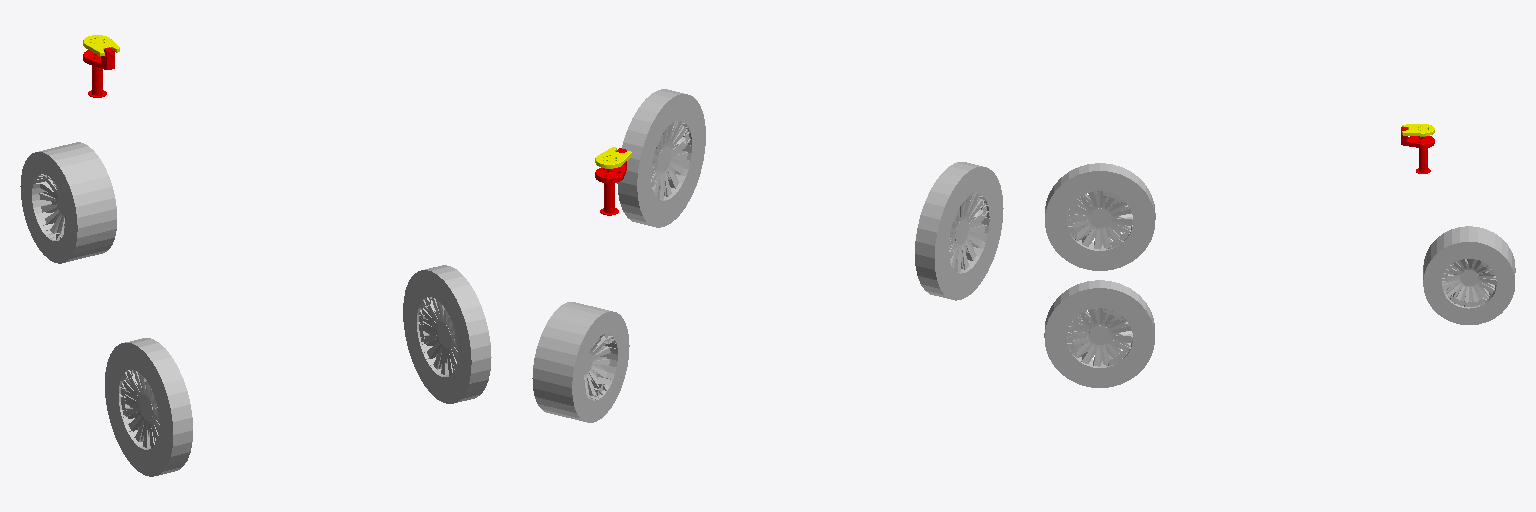
The robot description file, URDF, robot "ai_car1":
<?xml version="1.0"?>
<robot name="ai_car1">

  <!-- モデルのベースとなる空リンク -->
  <link name="base_link"/>

  <!-- chassis本体 -->
  <link name="chassis">
    <inertial>
      <mass value="40.0"/>
      <inertia
        ixx="1.73333" ixy="0.0" ixz="0.0"
        iyy="4.56667" iyz="0.0" izz="4.56667"/>
    </inertial>

    <visual name="chassis_visual">
      <origin xyz="0 0 0" rpy="0 0 0"/>
      <geometry>
        <mesh filename="package://simulator/models/ai_car1/meshes/AIF_body.dae"/>
      </geometry>
    </visual>

    <collision name="chassis_collision">
      <origin xyz="0 0 0" rpy="0 0 0"/>
      <geometry>
        <mesh filename="package://simulator/models/ai_car1/meshes/AIF_body.dae"/>
      </geometry>
    </collision>
  </link>

  <!-- chassisをオフセットして配置 -->
  <joint name="chassis_offset_joint" type="fixed">
    <parent link="base_link"/>
    <child link="chassis"/>
    <origin xyz="0 0 0.15" rpy="0 0 1.57"/>
  </joint>

  <!-- ========== Motor Assembly ========== -->
  <!-- モータ本体 -->
  <link name="motor">
    <inertial>
      <mass value="7.0"/>
      <inertia
        ixx="0.04778"
        ixy="0.0"
        ixz="0.0"
        iyy="0.04778"
        iyz="0.0"
        izz="0.07875"/>
    </inertial>

    <visual name="motor_visual">
      <origin xyz="0 0 0" rpy="0 0 0"/>
      <geometry>
        <mesh filename="package://simulator/models/ai_car1/meshes/motor.dae" scale="0.001 0.001 0.001"/>
      </geometry>
    </visual>

    <collision name="motor_collision">
      <origin xyz="0 0 0" rpy="0 0 0"/>
      <geometry>
        <mesh filename="package://simulator/models/ai_car1/meshes/motor.dae" scale="0.001 0.001 0.001"/>
      </geometry>
      <surface>
        <contact>
          <ode>
            <kp>1e5</kp>    <!-- ばね係数 -->
            <kd>1.0</kd>    <!-- 減衰係数 -->
          </ode>
        </contact>
        <friction>
          <ode>
            <mu>1.0</mu>    <!-- 静止摩擦 -->
            <mu2>1.0</mu2>  <!-- 動摩擦 -->
          </ode>
        </friction>
      </surface>
    </collision>
  </link>

  <!-- モータの回転部分 -->
  <link name="motor_spin">
    <inertial>
      <mass value="7.0"/>
      <inertia
        ixx="0.04778"
        ixy="0.0"
        ixz="0.0"
        iyy="0.04778"
        iyz="0.0"
        izz="0.07875"/>
    </inertial>

    <visual name="motor_spin_visual">
      <origin xyz="0 0 0" rpy="0 0 0"/>
      <geometry>
        <mesh filename="package://simulator/models/ai_car1/meshes/motor_spin.dae" scale="0.001 0.001 0.001"/>
      </geometry>
      <material name="yellow">
        <color rgba="1.0 1.0 0.0 1.0"/>
      </material>
    </visual>

    <collision name="motor_spin_collision">
      <origin xyz="0 0 0" rpy="0 0 0"/>
      <geometry>
        <mesh filename="package://simulator/models/ai_car1/meshes/motor_spin.dae" scale="0.001 0.001 0.001"/>
      </geometry>
      <surface>
        <contact>
          <ode>
            <kp>1e5</kp>    <!-- ばね係数 -->
            <kd>1.0</kd>    <!-- 減衰係数 -->
          </ode>
        </contact>
        <friction>
          <ode>
            <mu>1.0</mu>    <!-- 静止摩擦 -->
            <mu2>1.0</mu2>  <!-- 動摩擦 -->
          </ode>
        </friction>
      </surface>
    </collision>
  </link>

  <!-- chassis に固定されるモータ -->
  <joint name="motor_joint" type="fixed">
    <parent link="chassis"/>
    <child link="motor"/>
    <origin xyz="0.7 0 0.33" rpy="0 0 0"/>
  </joint>

  <!-- モータ回転軸 -->
  <joint name="motor_spin_joint" type="revolute">
    <parent link="motor"/>
    <child link="motor_spin"/>
    <origin xyz="0 0 0.022" rpy="0 0 0"/>
    <axis xyz="0 0 1"/>
    <limit lower="-6.283" upper="6.283" effort="9.4" velocity="100.0"/>
    <dynamics friction="0.9"/>
  </joint>


  <!-- ========== Left Wheel ========== -->
  <!-- ========================== -->
  <!--        Left Wheel          -->
  <!-- ========================== -->
  <link name="left_wheel">
    <inertial>
      <mass value="7.0"/>
      <inertia
        ixx="0.04778"
        ixy="0.0"
        ixz="0.0"
        iyy="0.04778"
        iyz="0.0"
        izz="0.07875"/>
    </inertial>

    <visual name="left_wheel_visual">
      <origin xyz="0 0 0" rpy="0 0 0"/>
      <geometry>
        <mesh filename="package://simulator/models/ai_car1/meshes/tire.dae" scale="0.05 0.12 0.12"/>
      </geometry>
    </visual>

    <collision name="left_wheel_collision">
      <origin xyz="0 0 0" rpy="0 0 0"/>
      <geometry>
        <mesh filename="package://simulator/models/ai_car1/meshes/tire.dae" scale="0.05 0.12 0.12"/>
      </geometry>
    </collision>
  </link>

  <!-- 左車輪ジョイント -->
  <joint name="left_wheel_joint" type="revolute">
    <parent link="chassis"/>
    <child link="left_wheel"/>
    <origin xyz="0 -0.3 0" rpy="1.57 0 1.57"/>
    <axis xyz="-1 0 0"/>
    <limit effort="9.4" lower="-1000.0" upper="1000.0" velocity="100.0"/>
    <dynamics friction="0.9"/>
  </joint>

  <!-- ========================== -->
  <!--        Right Wheel         -->
  <!-- ========================== -->
  <link name="right_wheel">
    <inertial>
      <mass value="7.0"/>
      <inertia
        ixx="0.04778"
        ixy="0.0"
        ixz="0.0"
        iyy="0.04778"
        iyz="0.0"
        izz="0.07875"/>
    </inertial>

    <visual name="right_wheel_visual">
      <origin xyz="0 0 0" rpy="0 0 0"/>
      <geometry>
        <mesh filename="package://simulator/models/ai_car1/meshes/tire.dae" scale="0.05 0.12 0.12"/>
      </geometry>
    </visual>

    <collision name="right_wheel_collision">
      <origin xyz="0 0 0" rpy="0 0 0"/>
      <geometry>
        <mesh filename="package://simulator/models/ai_car1/meshes/tire.dae" scale="0.05 0.12 0.12"/>
      </geometry>
    </collision>
  </link>

  <!-- 右車輪ジョイント -->
  <joint name="right_wheel_joint" type="revolute">
    <parent link="chassis"/>
    <child link="right_wheel"/>
    <origin xyz="0 0.3 0" rpy="1.57 0 1.57"/>
    <axis xyz="-1 0 0"/>
    <limit effort="9.4" lower="-1000.0" upper="1000.0" velocity="100.0"/>
    <dynamics friction="0.9"/>
  </joint>

  <!-- ========== Caster Assembly ========== -->
  <!-- caster_yaw -->
  <link name="caster_yaw">
    <inertial>
      <mass value="5.0"/>
      <inertia
        ixx="0.001" ixy="0.0" ixz="0.0"
        iyy="0.001" iyz="0.0" izz="0.001"/>
    </inertial>

    <visual>
      <origin xyz="0 0 0" rpy="0 0 0"/>
      <geometry>
        <mesh filename="package://simulator/models/ai_car1/meshes/castor_yaw.dae" scale="0.001 0.001 0.001"/>
      </geometry>
      <material name="red">
        <color rgba="1.0 0.0 0.0 1.0"/>
      </material>
    </visual>

    <collision>
      <origin xyz="0 0 0" rpy="0 0 0"/>
      <geometry>
        <mesh filename="package://simulator/models/ai_car1/meshes/castor_yaw.dae" scale="0.001 0.001 0.001"/>
      </geometry>
    </collision>
  </link>

  <!-- caster -->
  <link name="caster">
    <inertial>
      <mass value="1.0"/>
      <inertia
        ixx="0.04778" ixy="0.0" ixz="0.0"
        iyy="0.04778" iyz="0.0" izz="0.07875"/>
    </inertial>

    <visual>
      <origin xyz="0 0 0" rpy="0 0 0"/>
      <geometry>
        <mesh filename="package://simulator/models/ai_car1/meshes/tire.dae" scale="0.1 0.1 0.1"/>
      </geometry>
    </visual>

    <collision>
      <origin xyz="0 0 0" rpy="0 0 0"/>
      <geometry>
        <mesh filename="package://simulator/models/ai_car1/meshes/tire.dae" scale="0.1 0.1 0.1"/>
      </geometry>
    </collision>
  </link>

  <!-- chassis → caster_yaw（SDFの frame と link pose を合成）-->
  <!-- T(chassis→caster_yaw) = [0.7, 0, 0.25], rpy=[0,0,0] -->
  <joint name="caster_yaw_wheel" type="revolute">
    <parent link="chassis"/>
    <child link="caster_yaw"/>
    <origin xyz="0.7 0 0.25" rpy="0 0 0"/>
    <axis xyz="0 0 1"/>
    <limit lower="-0.26" upper="0.26" effort="100.0" velocity="1.0"/>
    <dynamics damping="10.0" spring_stiffness="12.0" spring_reference="0.0"/>
  </joint>

  <!-- caster_yaw → caster（SDFの relative pose をそのまま）-->
  <!-- SDFはrevolute(無制限)でしたが、URDFでは無制限はcontinuousで表現 -->
  <joint name="caster_pitch_joint" type="continuous">
    <parent link="caster_yaw"/>
    <child link="caster"/>
    <origin xyz="0.1 0 -0.25" rpy="0 0 1.57"/>
    <axis xyz="1 0 0"/>
    <dynamics damping="0.01"/>
  </joint>


  <!-- ========== Sensors ========== -->
  <!-- ============================ -->
  <!--       IMU センサ             -->
  <!-- ============================ -->

  <link name="imu_link">
    <inertial>
      <mass value="0.01"/>
      <inertia ixx="1e-6" iyy="1e-6" izz="1e-6" ixy="0" ixz="0" iyz="0"/>
    </inertial>
  </link>

  <joint name="imu_joint" type="fixed">
    <parent link="chassis"/>
    <child link="imu_link"/>
    <origin xyz="-0.032 0 0.068" rpy="0 0 0"/>
  </joint>

  <!-- Gazebo用IMUプラグイン -->
  <gazebo reference="imu_link">
    <sensor name="imu_sensor" type="imu">
      <always_on>true</always_on>
      <update_rate>20.0</update_rate>
      <visualize>true</visualize>
      <topic>imu_raw</topic>
    </sensor>
  </gazebo>

  <!-- ============================ -->
  <!--       カメラベースリンク     -->
  <!-- ============================ -->

  <link name="camera_link">
    <inertial>
      <mass value="0.01"/>
      <inertia ixx="1e-6" iyy="1e-6" izz="1e-6" ixy="0" ixz="0" iyz="0"/>
    </inertial>
  </link>

  <joint name="camera_joint" type="fixed">
    <parent link="chassis"/>
    <child link="camera_link"/>
    <origin xyz="0.35 0 0.55" rpy="0 0 0"/>
  </joint>

  <!-- ============================ -->
  <!--       RGB カメラ             -->
  <!-- ============================ -->

  <link name="camera_rgb_link"/>

  <joint name="camera_rgb_joint" type="fixed">
    <parent link="camera_link"/>
    <child link="camera_rgb_link"/>
    <origin xyz="0 0 0" rpy="0 0 0"/>
  </joint>

  <gazebo reference="camera_rgb_link">
    <sensor name="camera_rgb_sensor" type="camera">
      <update_rate>60.0</update_rate>
      <always_on>true</always_on>
      <visualize>true</visualize>
      <topic>image_raw</topic>
      <camera name="camera">
        <horizontal_fov>1.91986</horizontal_fov>
        <vertical_fov>1.39626</vertical_fov>
        <image>
          <width>480</width>
          <height>300</height>
          <format>R8G8B8</format>
        </image>
        <clip>
          <near>0.02</near>
          <far>300</far>
        </clip>
      </camera>
    </sensor>
  </gazebo>

  <!-- ============================ -->
  <!--       Depth カメラ           -->
  <!-- ============================ -->

  <link name="camera_depth_link"/>

  <joint name="camera_depth_joint" type="fixed">
    <parent link="camera_link"/>
    <child link="camera_depth_link"/>
    <origin xyz="0 0 0" rpy="0 0 0"/>
  </joint>

  <gazebo reference="camera_depth_link">
    <sensor name="camera_depth_sensor" type="depth">
      <update_rate>60.0</update_rate>
      <always_on>true</always_on>
      <visualize>true</visualize>
      <topic>depth_image_raw</topic>
      <pointcloud>
        <topic>depth_points</topic>
      </pointcloud>
      <camera name="camera">
        <horizontal_fov>1.91986</horizontal_fov>
        <vertical_fov>1.39626</vertical_fov>
        <image>
          <width>480</width>
          <height>300</height>
          <format>R8G8B8</format>
        </image>
        <clip>
          <near>0.02</near>
          <far>20</far>
        </clip>
      </camera>
    </sensor>
  </gazebo>

  <!-- ============================ -->
  <!--         GNSS (GPS)           -->
  <!-- ============================ -->

  <link name="gps_link"/>

  <joint name="gps_joint" type="fixed">
    <parent link="chassis"/>
    <child link="gps_link"/>
    <origin xyz="0 0 0" rpy="0 0 0"/>
  </joint>

  <gazebo reference="gps_link">
    <sensor name="gps_sensor" type="navsat">
      <always_on>true</always_on>
      <update_rate>1.0</update_rate>
      <topic>navsat</topic>
    </sensor>
  </gazebo>


  <!-- ============================ -->
  <!-- Diff Drive Plugin -->
  <!-- ============================ -->
  <gazebo>
    <plugin name="ignition::gazebo::systems::DiffDrive" filename="libignition-gazebo-diff-drive-system.so">
      <left_joint>left_wheel_joint</left_joint>
      <right_joint>right_wheel_joint</right_joint>
      <wheel_separation>0.6</wheel_separation>
      <wheel_radius>0.124</wheel_radius>
      <odom_publish_frequency>30</odom_publish_frequency>
      <topic>cmd_vel</topic>
      <odom_topic>odom</odom_topic>
    </plugin>
  </gazebo>

  <!-- ============================ -->
  <!-- IMU Plugin -->
  <!-- ============================ -->
  <gazebo>
    <plugin name="ignition_imu" filename="libignition-gazebo-imu-system.so">
    </plugin>
  </gazebo>

  <!-- ============================ -->
  <!-- Sensors Plugin -->
  <!-- ============================ -->
  <gazebo>
    <plugin name="ignition_sensors" filename="ignition-gazebo-sensors-system">
    </plugin>
  </gazebo>


  <!-- ========== ROS 2 Control設定 ========== -->
  <ros2_control name="MotorControlSystem" type="system">
    <hardware>
      <plugin>gz_ros2_control/GazeboSimSystem</plugin>
    </hardware>

    <joint name="motor_spin_joint">
      <command_interface name="position"/>
      <command_interface name="effort"/>
      <command_interface name="velocity"/>
      <state_interface name="position"/>
      <state_interface name="effort"/>
      <state_interface name="velocity"/>
    </joint>
  </ros2_control>


  <gazebo>
    <plugin filename="gz_ros2_control-system" name="gz_ros2_control::GazeboSimROS2ControlPlugin">
      <parameters>/home/ikenta/ros2_ws/src/aiformula/simulator/config/8108_effort_controller.yaml</parameters>
    </plugin>
  </gazebo>

</robot>

--- Facts derived from the render (not from the file) ---
Views: 3 orthographic renders of the robot side by side, from view 1: azimuth 30°, elevation 25°; view 2: azimuth 150°, elevation 25°; view 3: azimuth 270°, elevation 25°.
Robot: ai_car1 — 13 links, 12 joints (4 revolute, 1 continuous, 7 fixed); root link base_link; default pose: every joint at zero.
Visible links, largest first — view 1: right_wheel, left_wheel, caster, caster_yaw; view 2: right_wheel, caster, left_wheel, caster_yaw, motor_spin; view 3: left_wheel, right_wheel, caster, caster_yaw.
Link boxes in pixels (<box>): right_wheel: <box>105,338,192,476</box>; left_wheel: <box>403,265,491,403</box>; caster: <box>20,142,116,263</box>; caster_yaw: <box>83,47,114,97</box>; right_wheel: <box>915,162,1003,300</box>; caster: <box>532,302,629,422</box>; left_wheel: <box>617,89,705,227</box>; caster_yaw: <box>595,148,626,215</box>; motor_spin: <box>595,147,631,168</box>; left_wheel: <box>1044,280,1154,387</box>; right_wheel: <box>1045,163,1155,270</box>; caster: <box>1423,226,1515,324</box>; caster_yaw: <box>1401,127,1434,173</box>.
Bounding box of the posed robot: 0.6404 × 1.02 × 0.472 m (x, y, z).
5 mesh visuals loaded from 5 distinct referenced files (3 Collada DAE); not drawn: 2 (reference not matched to a file when rendering).
